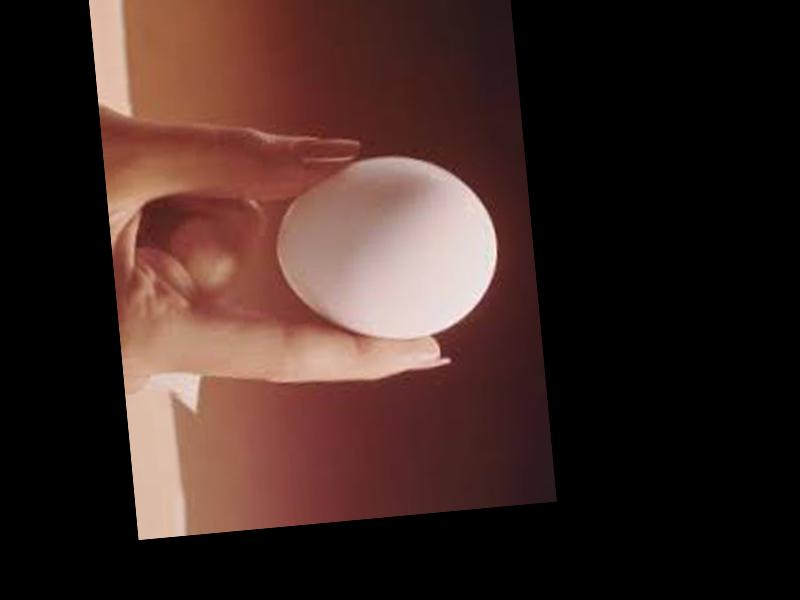Eggs: (266, 144, 503, 350)
